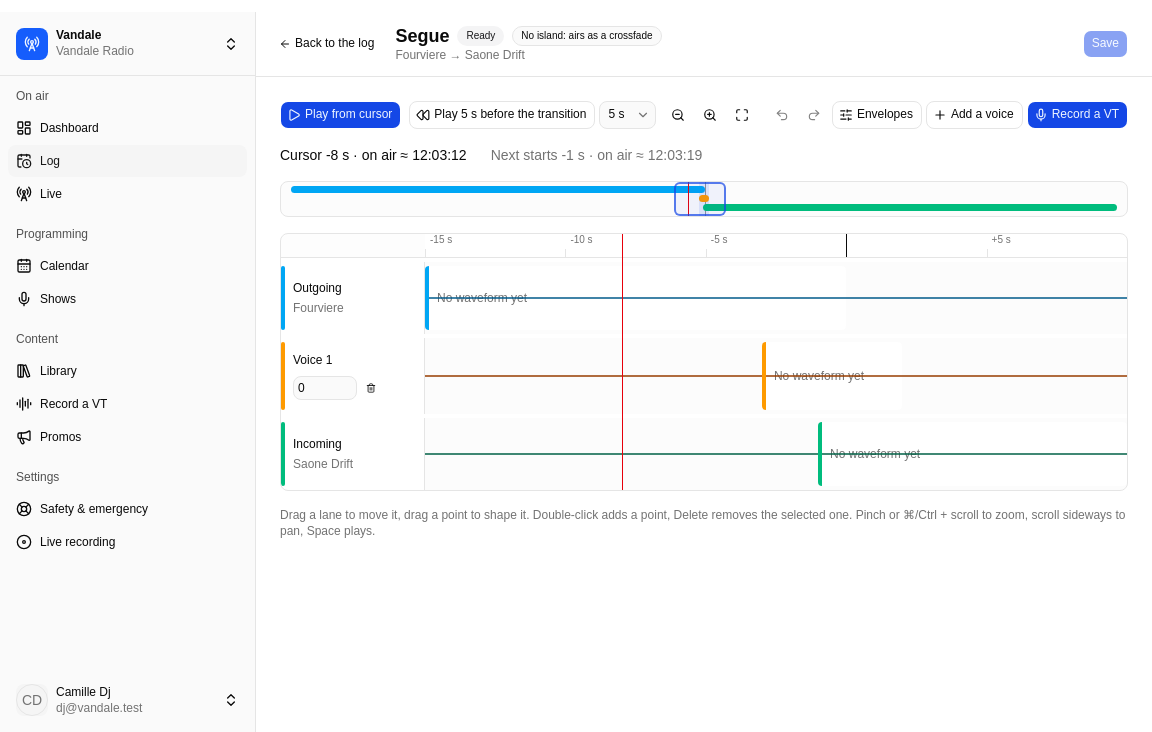
Test: segue editor › applies a typed voice gain on Enter, negative values included
Check: the text "Voice 1" is shown, box [293,353,332,367]
Replace the text in the field named "Gain (dB)" with "-" at [325, 388], box [293,376,357,400]
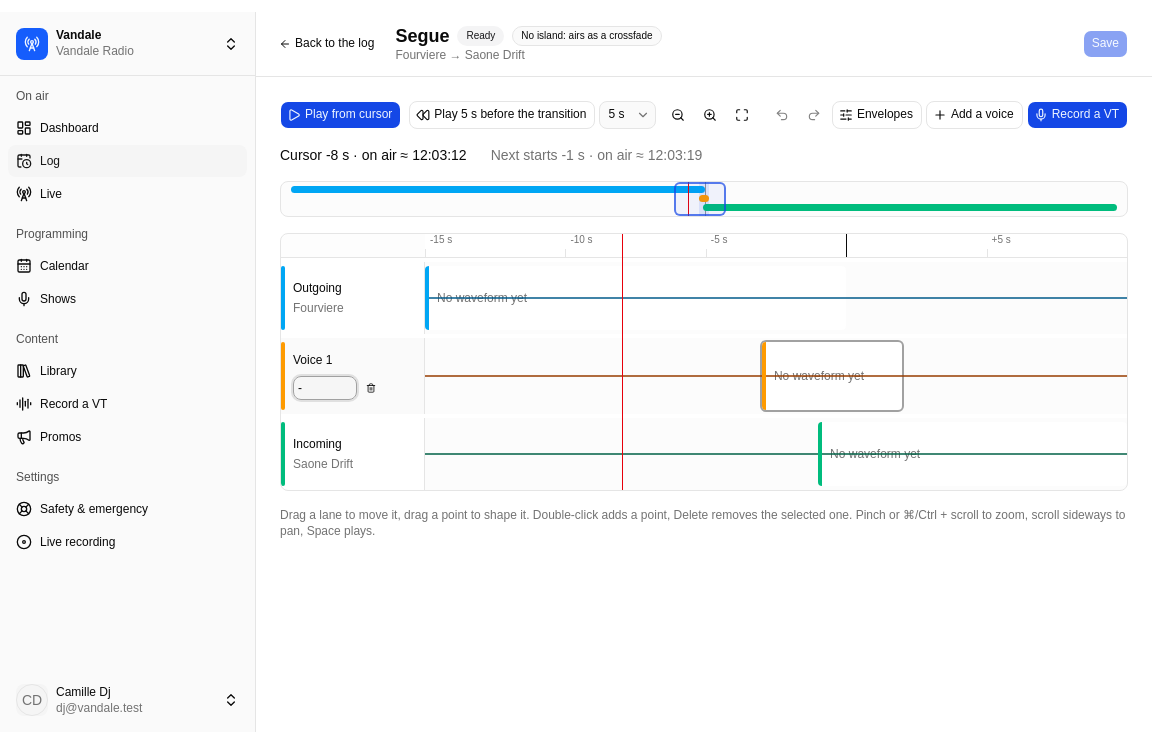
Check: the button "Save" is disabled, box [1083,30,1128,58]
Type "4.5" into the field named "Gain (dB)".
click(325, 388); type("4.5")  # box [293,376,357,400]
Then press Enter
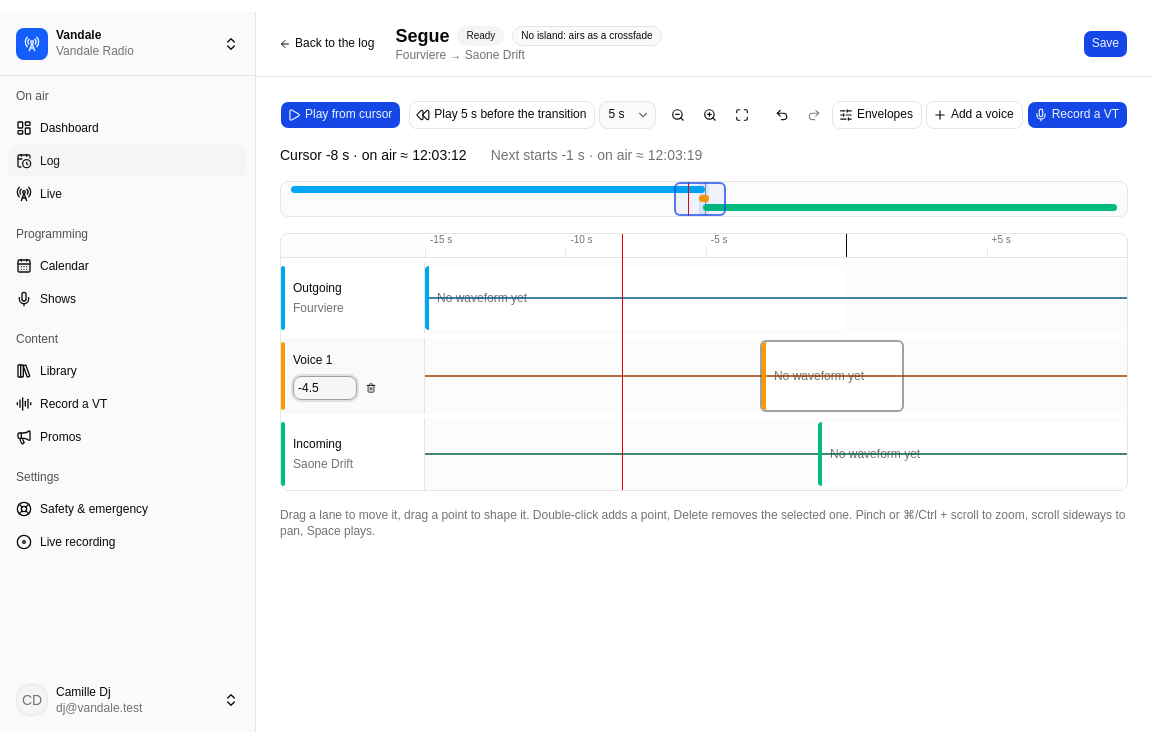
Check: the field named "Gain (dB)" holds "-4.5", box [293,376,357,400]
Check: the button "Save" is enabled, box [1083,30,1128,58]
